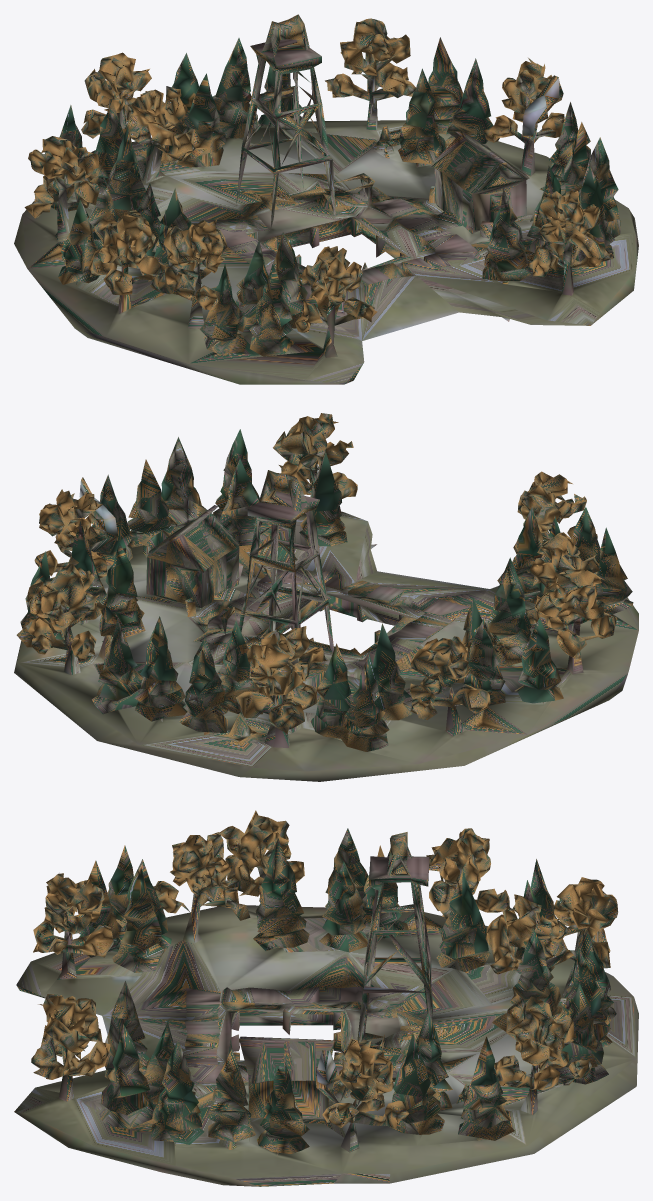
File: m_oak.glb
3 views of the same model, one above another, from view 1: azimuth 30°, elevation 25°; view 2: azimuth 150°, elevation 25°; view 3: azimuth 270°, elevation 25° (orthographic). The views are drawn at different scales.
Bounding box in the file's own units: 0.9621 × 0.3616 × 0.9198.
Materials: 1 (1 with a texture image).
